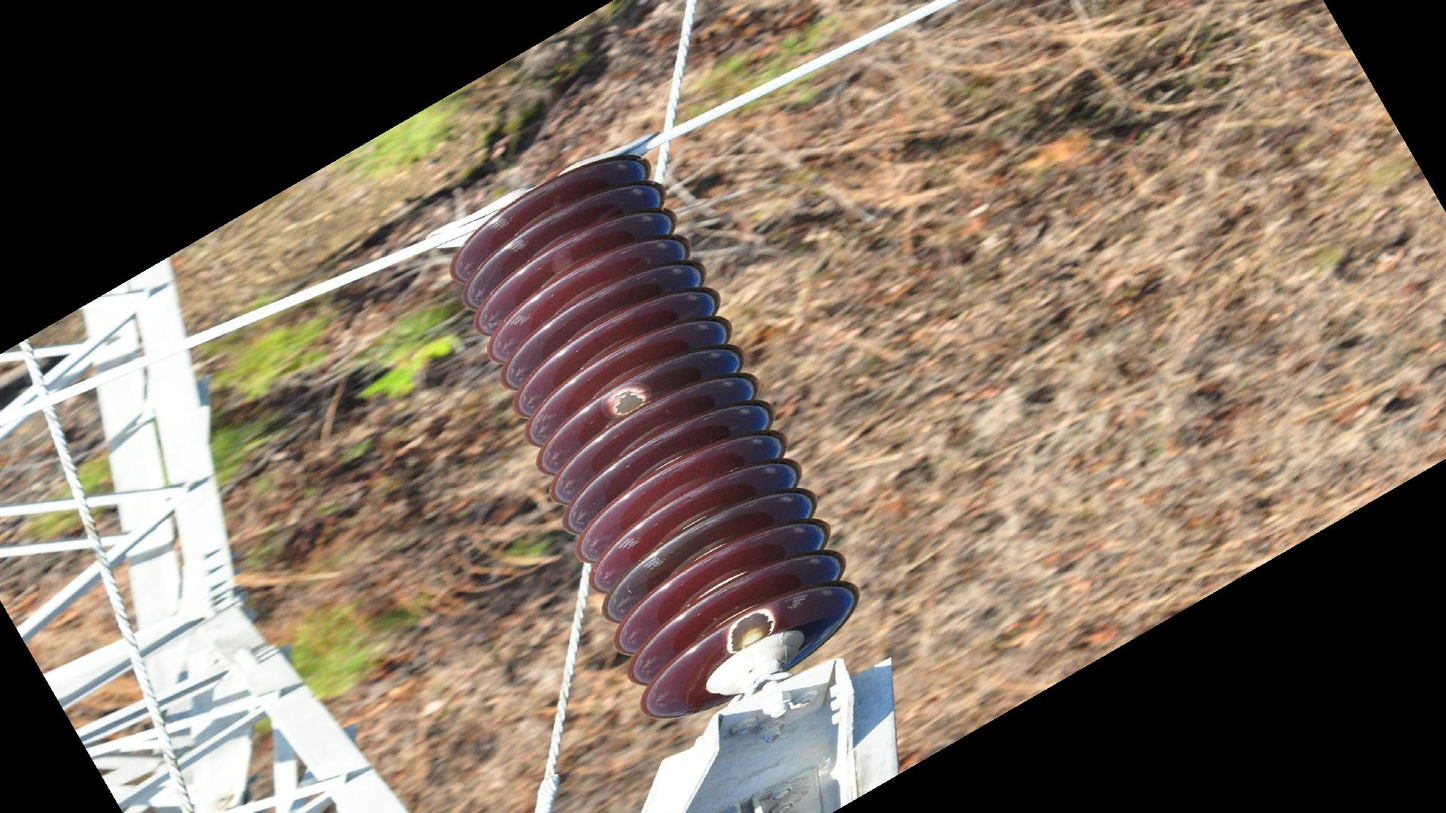insulator: (441, 148, 864, 723)
insulator_flashover: (725, 608, 776, 654), (609, 384, 645, 418)
